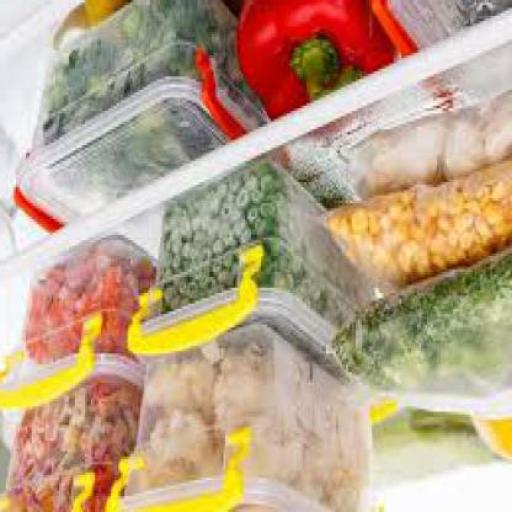biodegradable: (224, 348, 370, 496), (51, 2, 194, 140), (239, 2, 396, 127), (350, 272, 510, 390), (12, 386, 140, 506), (348, 193, 508, 285), (267, 180, 366, 325), (164, 182, 275, 298), (62, 122, 209, 205), (145, 362, 233, 480), (354, 124, 440, 198), (186, 2, 240, 95), (443, 111, 511, 183), (84, 2, 129, 30)
plastic: (15, 2, 269, 238), (129, 167, 366, 398), (111, 327, 374, 511), (327, 250, 511, 406), (324, 161, 512, 301), (2, 238, 160, 382), (1, 374, 148, 511), (336, 102, 511, 204), (372, 406, 510, 495), (373, 1, 511, 59)
